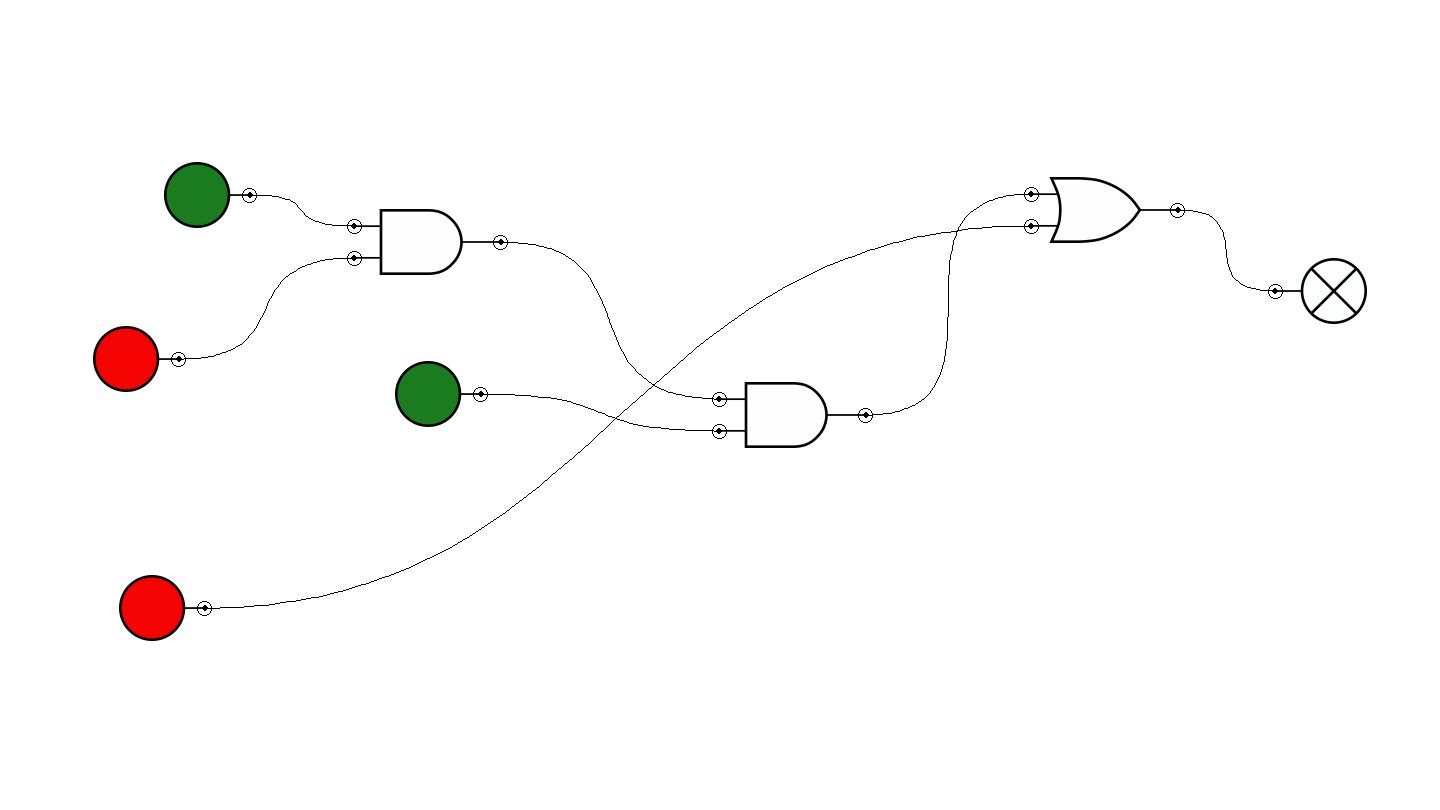and: (712, 382, 873, 448), (347, 209, 508, 275)
bulb: (1268, 258, 1367, 324)
or: (1024, 177, 1185, 243)
switch_False: (93, 326, 186, 392), (119, 575, 212, 641)
switch_True: (164, 162, 257, 228), (395, 361, 488, 427)
